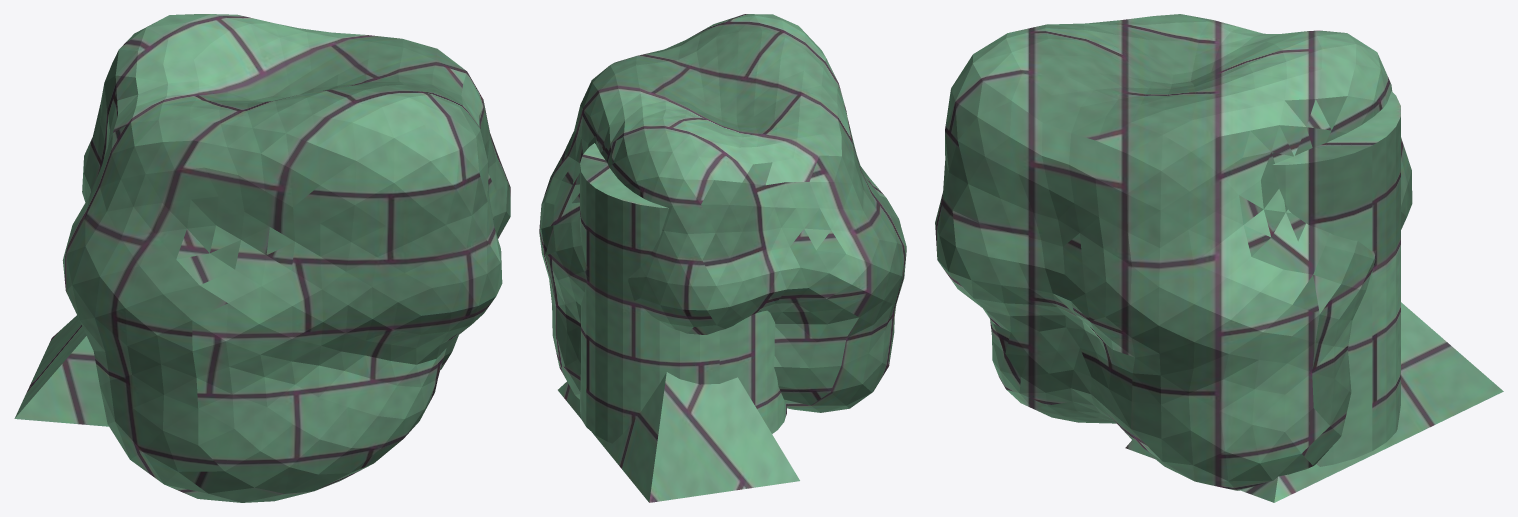
3 views of the same model, side by side, from view 1: azimuth 30°, elevation 25°; view 2: azimuth 150°, elevation 25°; view 3: azimuth 270°, elevation 25° (orthographic). The views are drawn at different scales.
Parts seen in each view (by area): view 1: geometry_0; view 2: geometry_0; view 3: geometry_0.
Part boxes in pixels (left/top/right/bottom): geometry_0: left=14, top=14, right=510, bottom=502; geometry_0: left=539, top=14, right=906, bottom=502; geometry_0: left=935, top=14, right=1503, bottom=502.
Size of the model in its own units: 1.51 by 1.41 by 1.77.
1 material, 1 textured.
